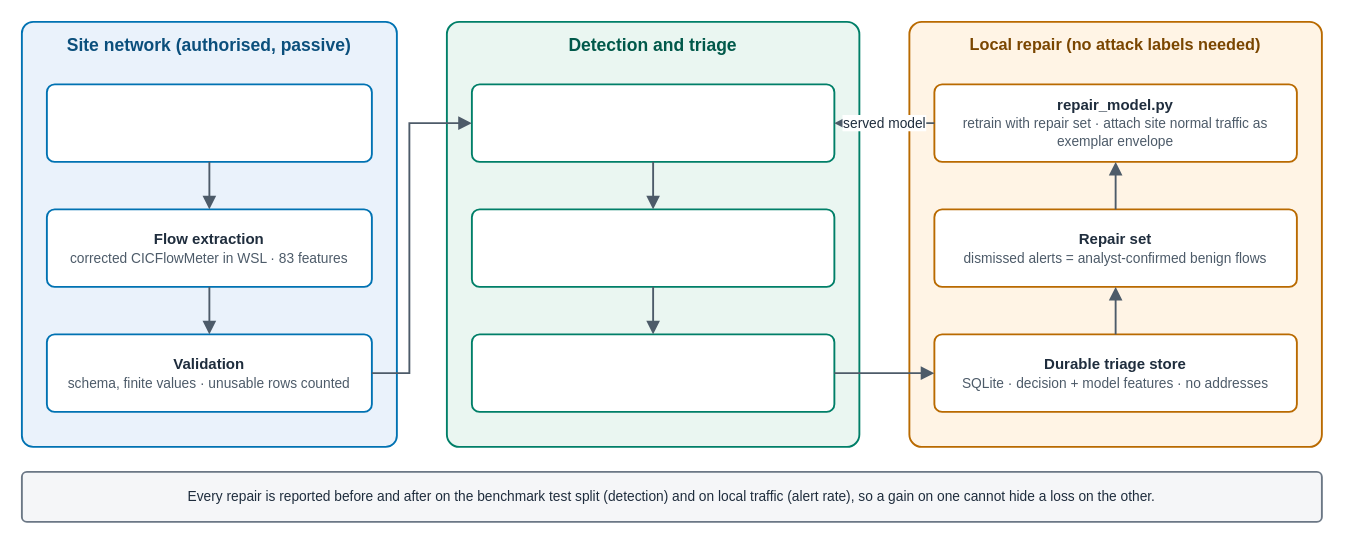
The diagram is 1345 pixels wide and 545 high, and some of its shapes have lost their labels. The shapes that lost their labels are listed below. From the top down, each one's centre as x and y in pixels, then its label:
point (208, 122): Bounded capture dumpcap · full packets · time and byte limits
point (652, 122): Score classifier + anomaly detector, vetoed by the site envelope
point (652, 247): Console alert SHAP reasons · candidate ATT&CK technique
point (652, 372): Analyst triage confirm · dismiss (false alarm) · reopen
